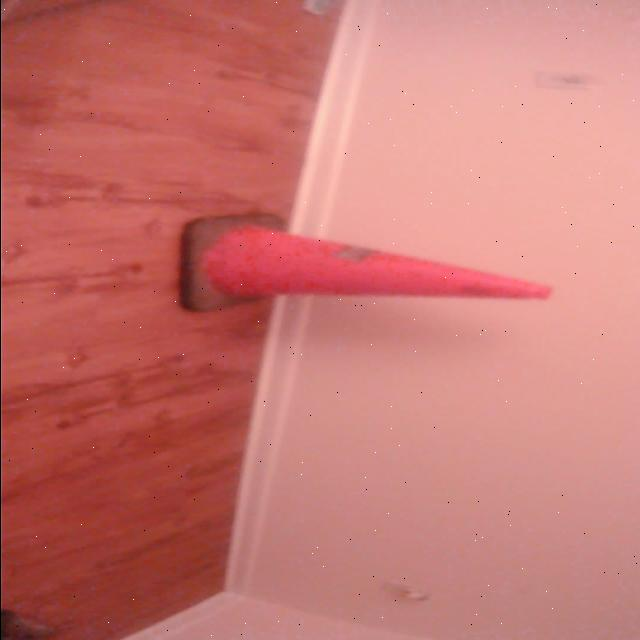traffic cone: (173, 210, 563, 318)
